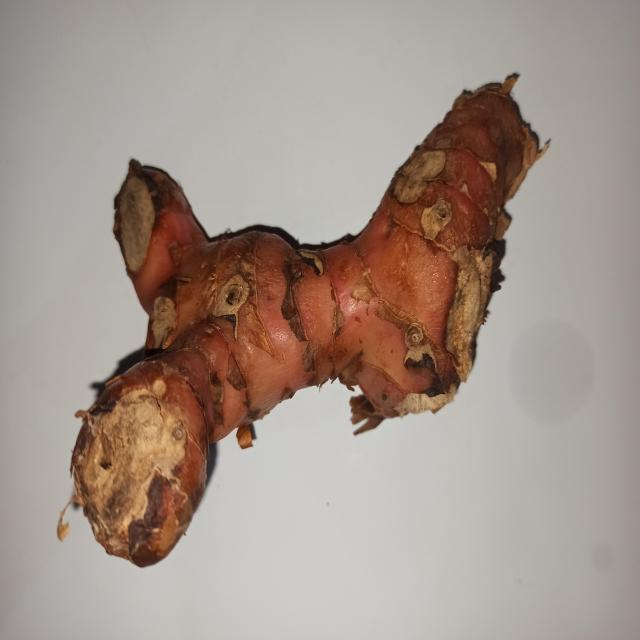ginger: (50, 115, 533, 487)
